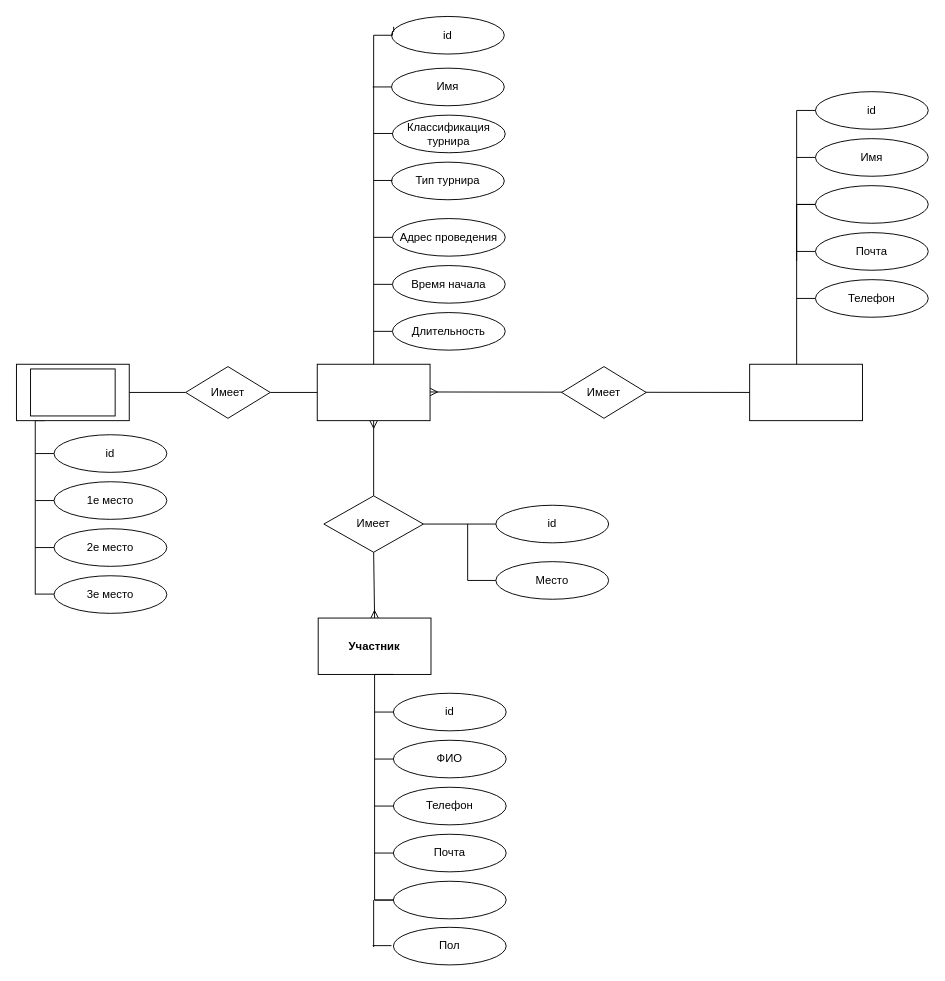
The diagram is 945 pixels wide and 981 high, and some of its shapes have lost their labels. Here are the shapes that lost their labels. From the top down, the centre of each, then its label:
At (x=871, y=204): "Адрес".
At (x=72, y=392): "Призовой фонд".
At (x=373, y=392): "Шахматный турнир".
At (x=805, y=392): "Организатор".
At (x=449, y=899): "Рейтинг".
